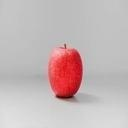apple: (47, 43, 84, 99)
